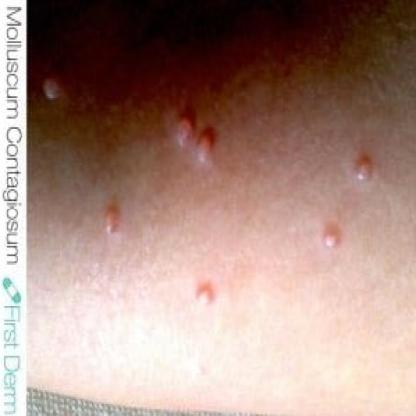Fire ant: (170, 110, 221, 172), (348, 151, 382, 193), (99, 200, 124, 242), (317, 217, 345, 254), (38, 70, 62, 106), (192, 275, 214, 308)
